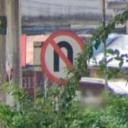NoVirarU: (43, 32, 76, 74)
